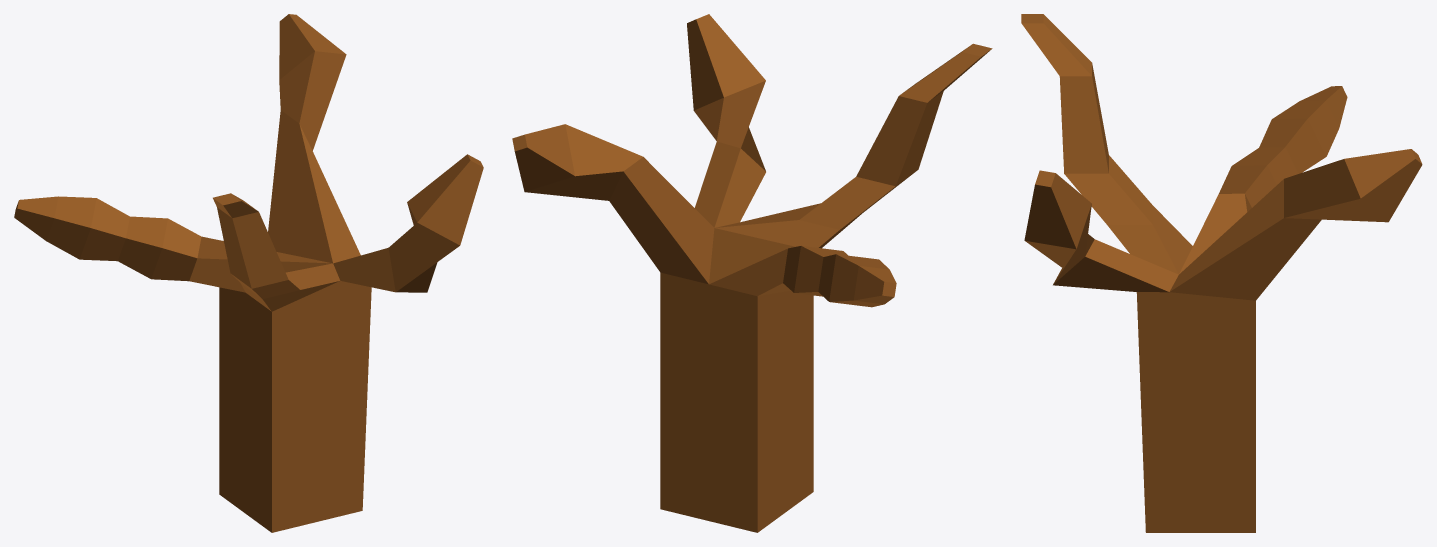
The model's file is arbol sin hojas.fbx.
3 views of the same model, side by side, from view 1: azimuth 30°, elevation 25°; view 2: azimuth 150°, elevation 25°; view 3: azimuth 270°, elevation 25° (orthographic). The views are drawn at different scales.
Visible parts, largest first — view 1: Cube.003; view 2: Cube.003; view 3: Cube.003.
Part boxes in pixels (<box>): Cube.003: <box>14,14,483,532</box>; Cube.003: <box>512,14,992,532</box>; Cube.003: <box>1021,14,1422,532</box>.
Size of the model in its own units: 4.27 by 4.72 by 4.11.
